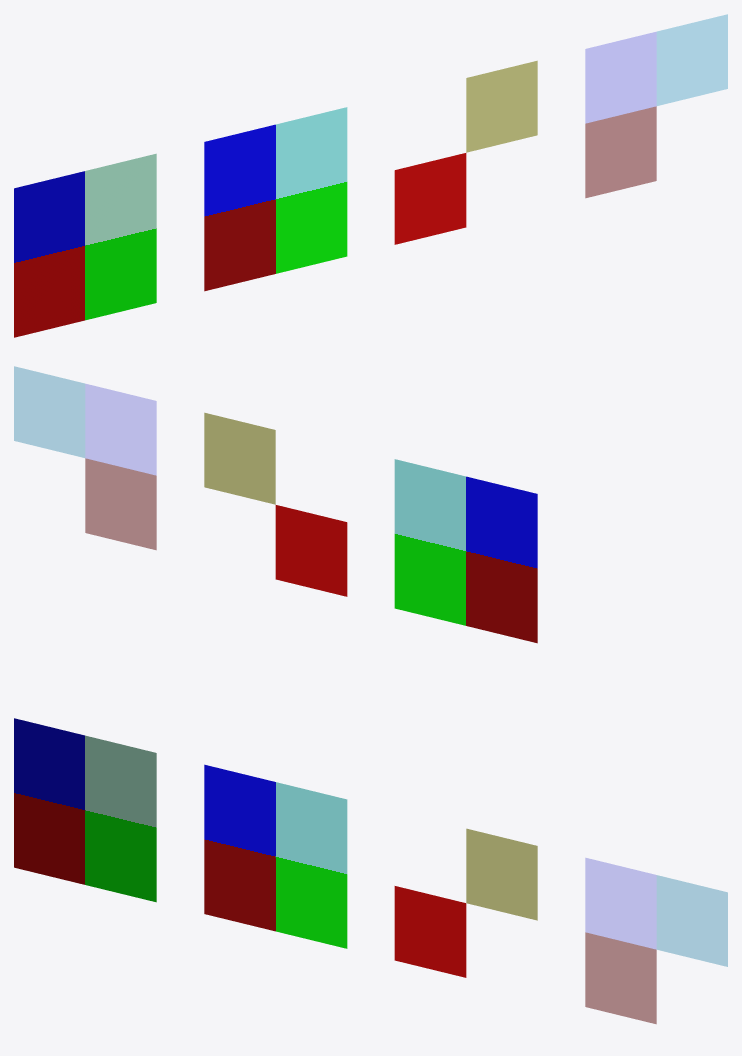
File: UnlitMaterials.gltf
3 renders of one model, top to bottom at view 1: azimuth 30°, elevation 25°; view 2: azimuth 150°, elevation 25°; view 3: azimuth 330°, elevation 25°, orthographic.
Visible parts, largest first — view 1: Unlit opaque, Lit opaque, Unlit blend, Unlit mask; view 2: Unlit opaque, Unlit blend, Unlit mask; view 3: Unlit opaque, Lit opaque, Unlit blend, Unlit mask.
Boxes of the visible parts, box(x1,y1,x2,y2) form: Unlit opaque: box(204, 107, 347, 291); Lit opaque: box(14, 153, 156, 337); Unlit blend: box(585, 14, 727, 197); Unlit mask: box(394, 60, 537, 244); Unlit opaque: box(394, 459, 537, 643); Unlit blend: box(14, 366, 156, 549); Unlit mask: box(204, 412, 347, 596); Unlit opaque: box(204, 764, 347, 948); Lit opaque: box(14, 718, 156, 902); Unlit blend: box(585, 858, 727, 1023); Unlit mask: box(394, 828, 537, 977).
Size of the model in its own units: 7.5 by 1.5 by 0.
Materials: 4 (4 with a texture image).
